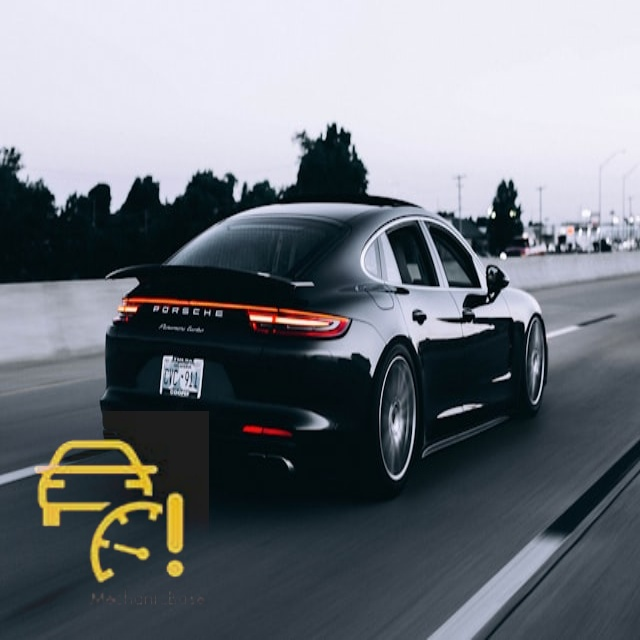symbol: (7, 411, 209, 613)
